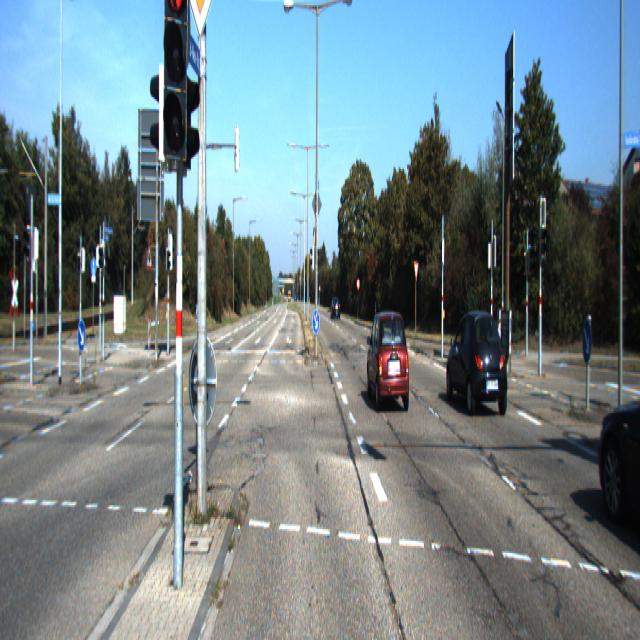Car: (597, 322, 639, 548), (446, 307, 508, 418), (366, 310, 411, 415)
DontCare: (274, 279, 294, 304), (327, 290, 341, 324)
